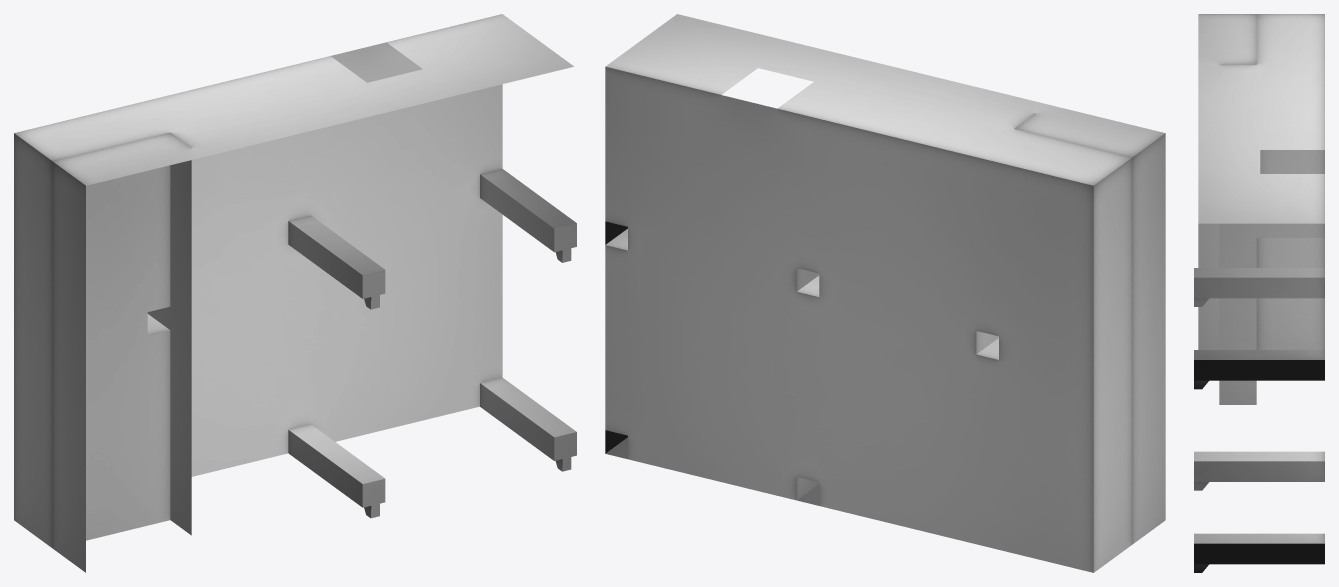
Rendered from room-amb.dae.
The picture shows the model from 3 angles, left to right: view 1: azimuth 30°, elevation 25°; view 2: azimuth 150°, elevation 25°; view 3: azimuth 270°, elevation 25°; orthographic projection. The views are drawn at different scales.
Parts seen in each view (by area): view 1: Mesh1_Model; view 2: Mesh1_Model; view 3: Mesh1_Model.
Part boxes in pixels (x1,y1,x2,y2): Mesh1_Model: (14, 14, 576, 572); Mesh1_Model: (605, 14, 1165, 572); Mesh1_Model: (1194, 14, 1324, 572).
Size of the model in its own units: 1834 by 1434 by 484.
Materials: 1 (1 with a texture image).
